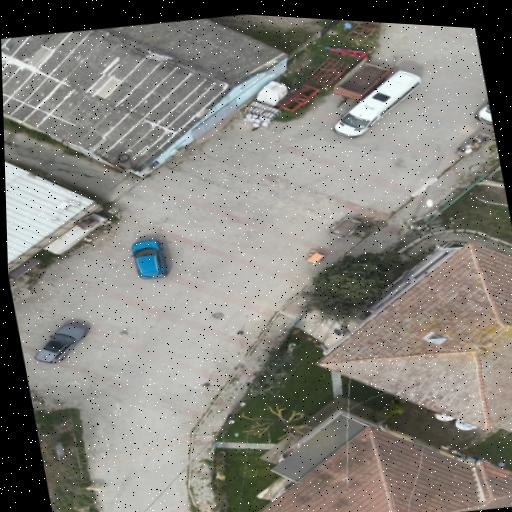car: (334, 71, 421, 138), (35, 324, 88, 363), (132, 240, 168, 279), (476, 103, 492, 124)
